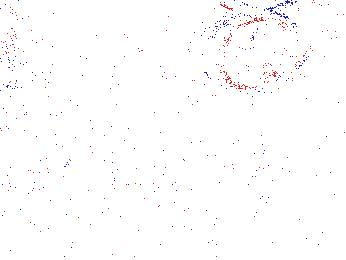moon jellyfish: (199, 7, 285, 92), (27, 6, 143, 60), (244, 17, 325, 92), (1, 41, 29, 80)
